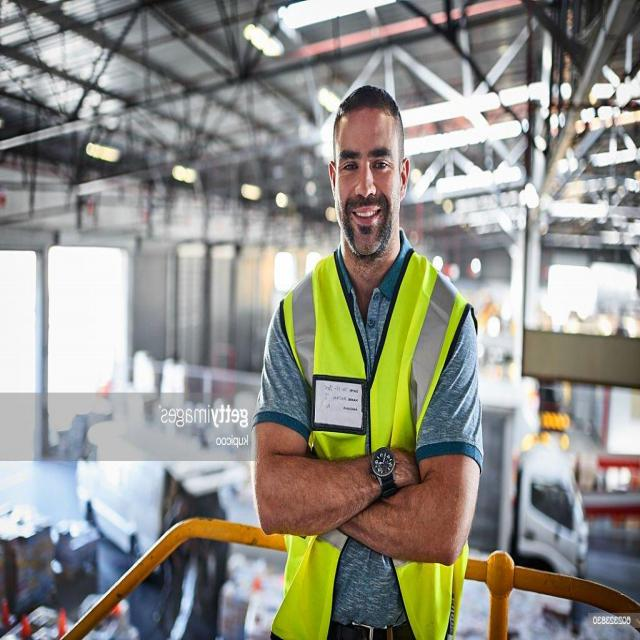Reflective-Jacket: (276, 256, 472, 634)
